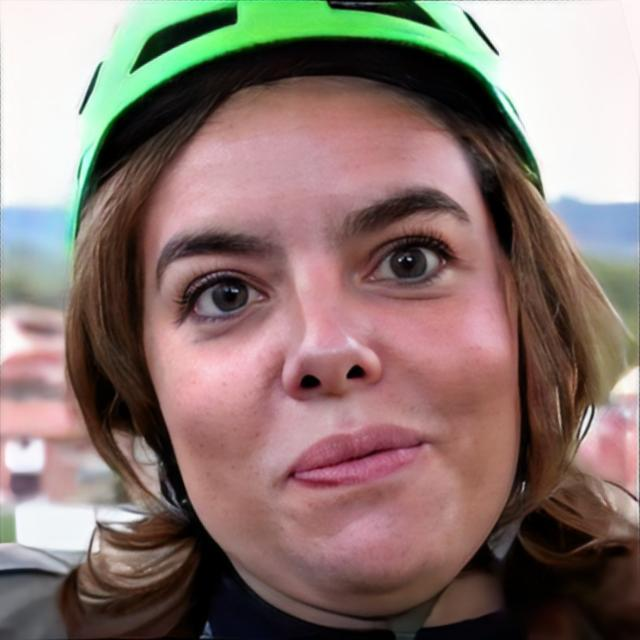surprise: (140, 70, 523, 620)
